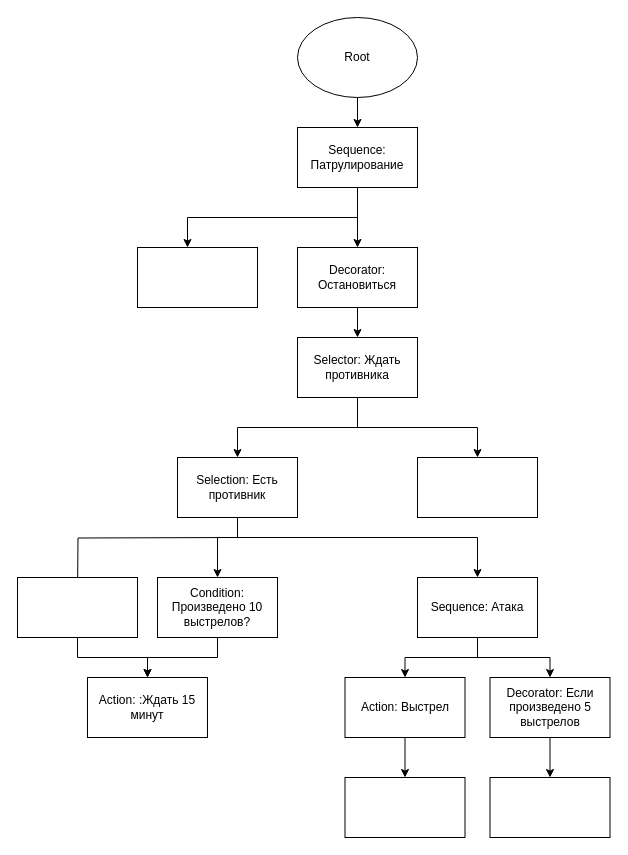
Some shapes in this 628 by 855 pixel diagram are drawn without their labels. The centre of each missing label's shape, as x and y in pixels:
"Action: Ждать 1 секунду" belongs at (404,807).
"Action: Ждать 5 минут" belongs at (477,487).
"Action: Идти к точке" belongs at (197,277).
"Action: Перезарядка" belongs at (549,807).
"Condition: Враг убит?" belongs at (77,607).
